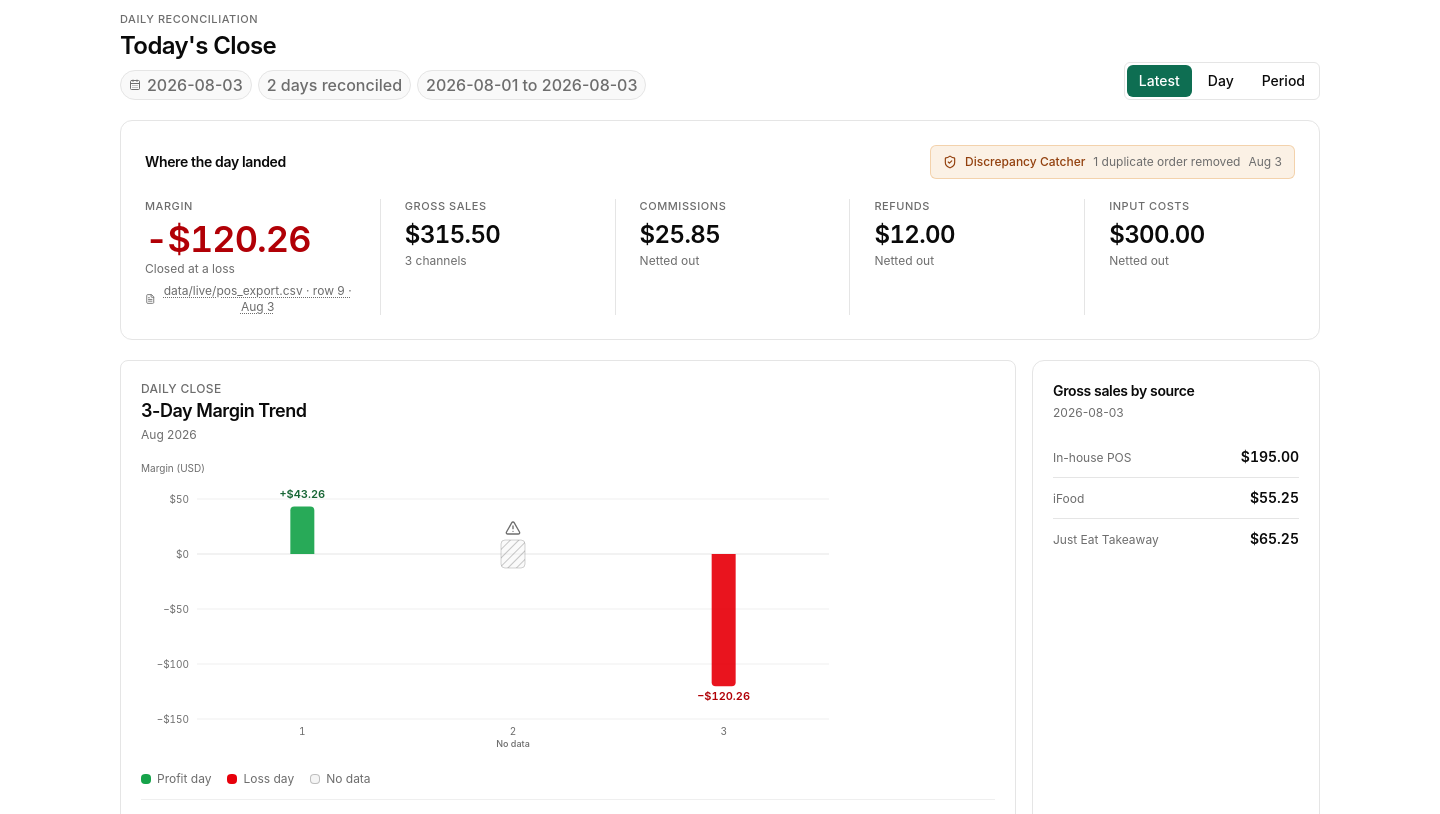
Test: ClosePage › Period view always shows results for its current range, but requires an explicit "Show results" click to apply an edit › shows the real loading state (not the "choose dates" prompt) once Show results is clicked after an edit
Expected: the text "-$120.26" is shown, [145,217,311,261]
Step 1. Click the button "Period" → (1283, 81), box [1250,65,1317,97]
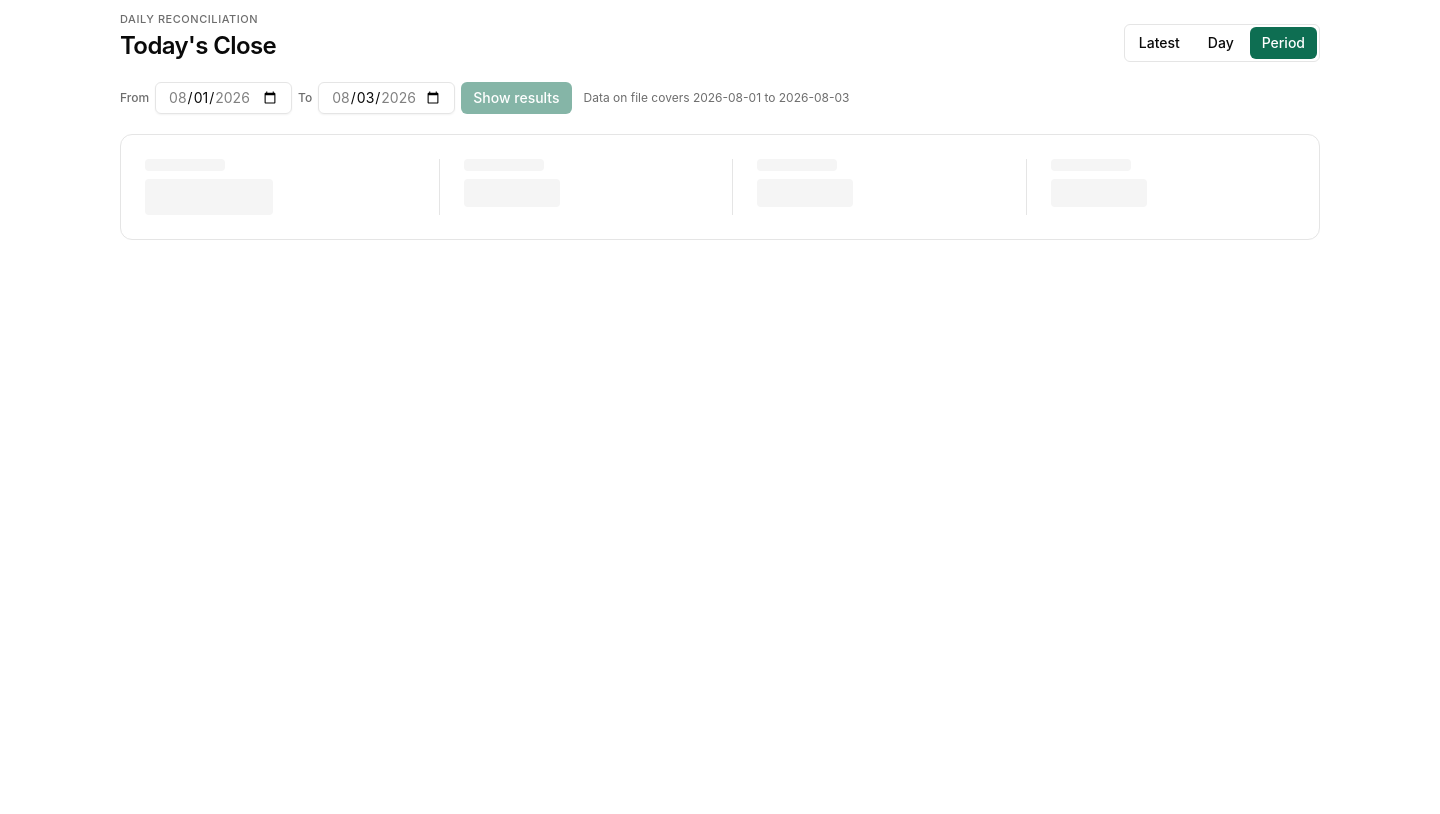
Step 2. Type "2026-08-02" into the date field labelled "From" → (224, 98), box [155,82,292,114]
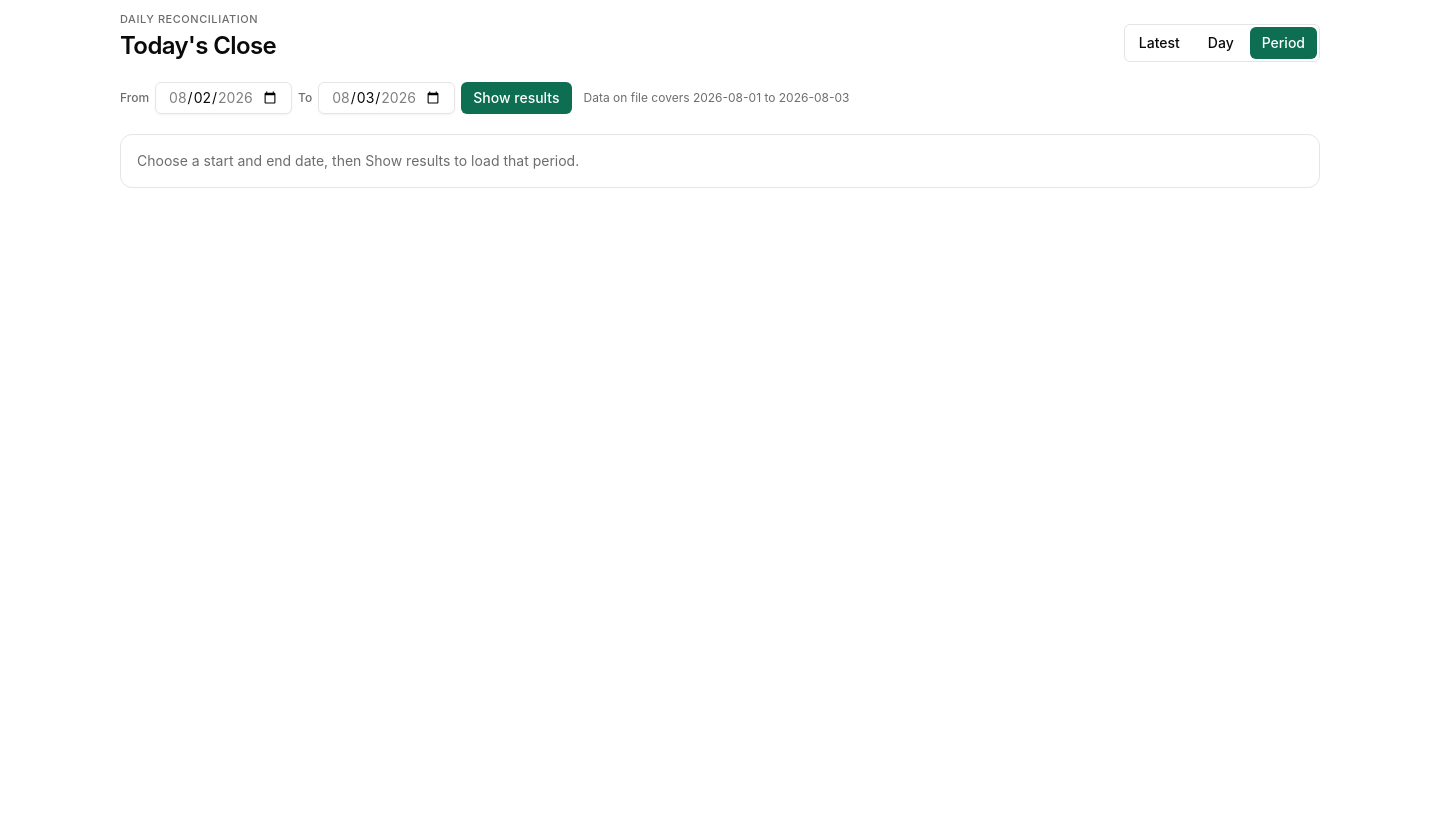
Step 3. Click the button "Show results" → (516, 98), box [461,82,572,114]
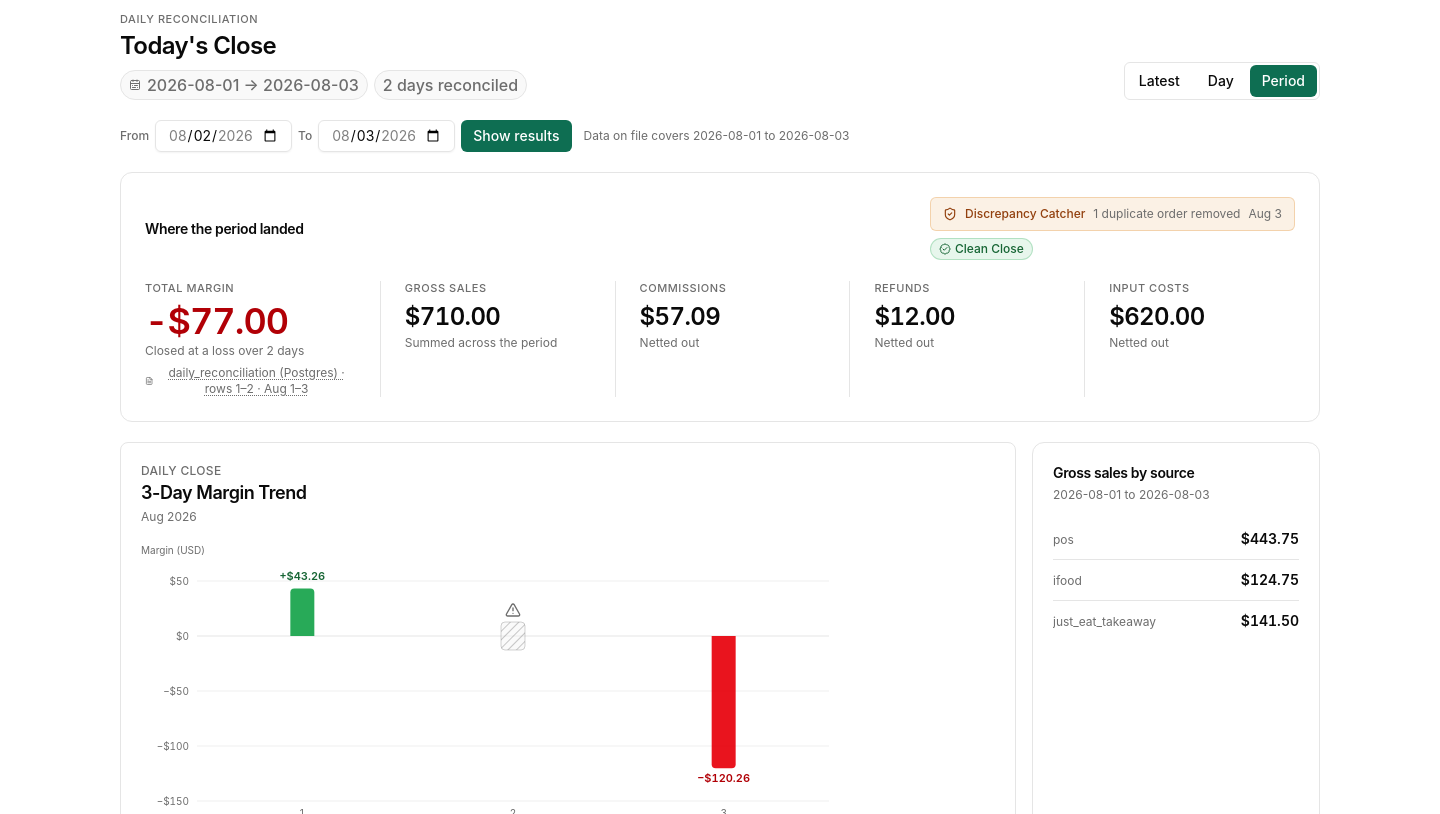
Expected: the text "Show results to load that period" is gone
